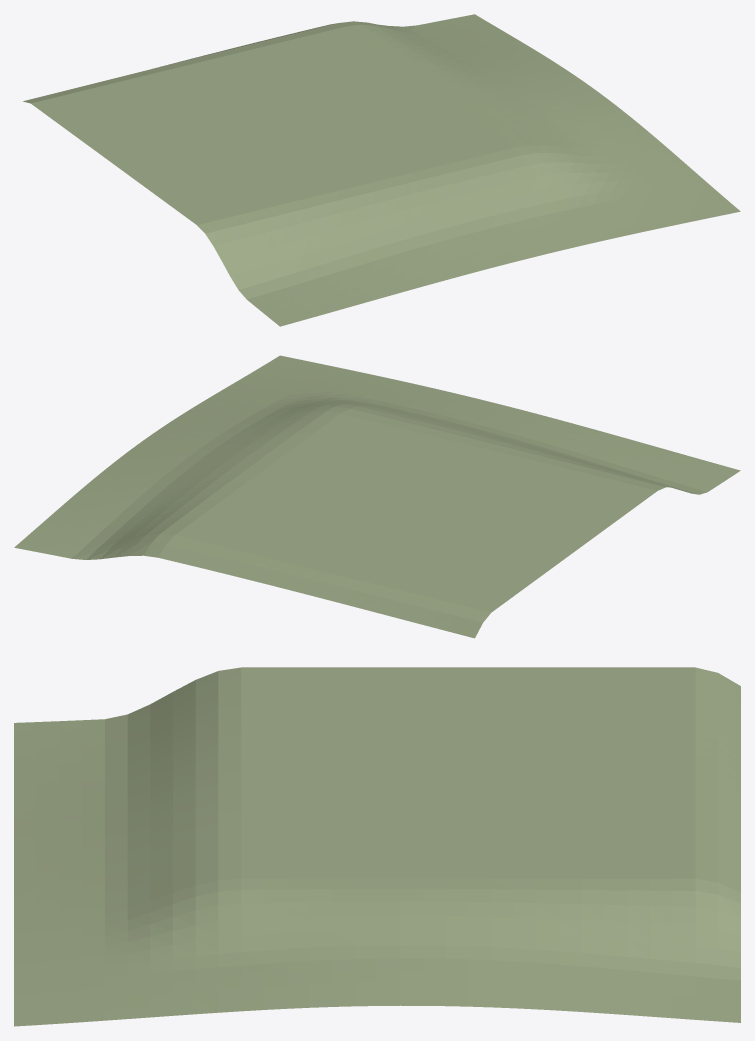
Rendered from railway-2-2.glb.
The picture shows the model from 3 angles, top to bottom: view 1: azimuth 30°, elevation 25°; view 2: azimuth 150°, elevation 25°; view 3: azimuth 270°, elevation 25°; orthographic projection. The views are drawn at different scales.
Parts seen in each view (by area): view 1: railway-2-2; view 2: railway-2-2; view 3: railway-2-2.
Boxes of the visible parts, x1,y1,x2,y2 form: railway-2-2: (23, 14, 740, 326); railway-2-2: (14, 355, 740, 638); railway-2-2: (14, 667, 740, 1026).
Size of the model in its own units: 128 by 10.78 by 128.
